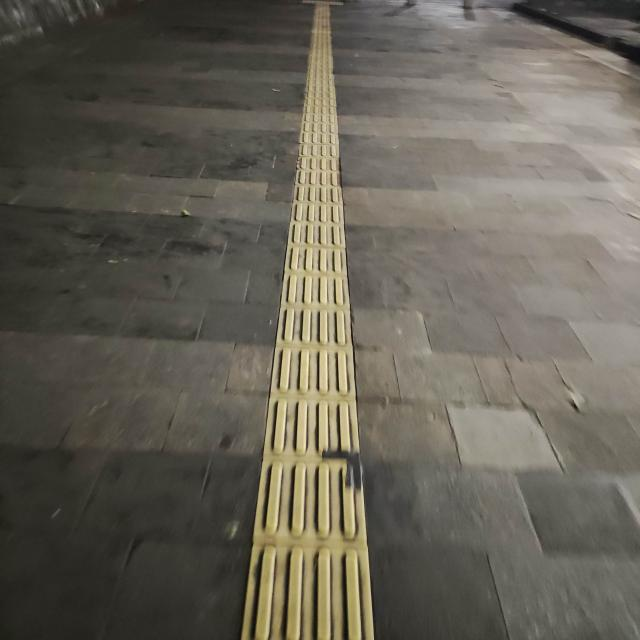lurus: (254, 33, 367, 640)
